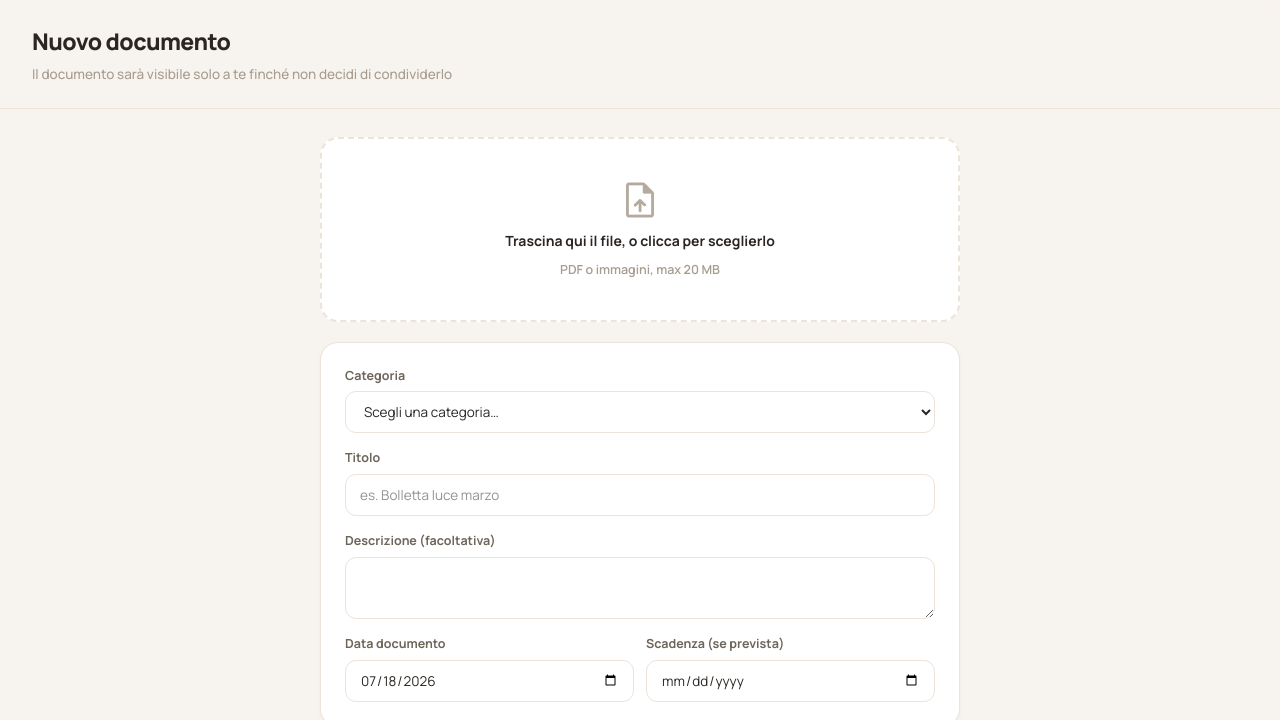
Test case: UploadView — campi condizionali per categoria › espone importo/metodo/data pagamento dopo aver attivato il checkbox
Select "Visita medica" in the dropdown labelled "Categoria" at [640, 412], box [345,391,935,433]
(page scrolled)
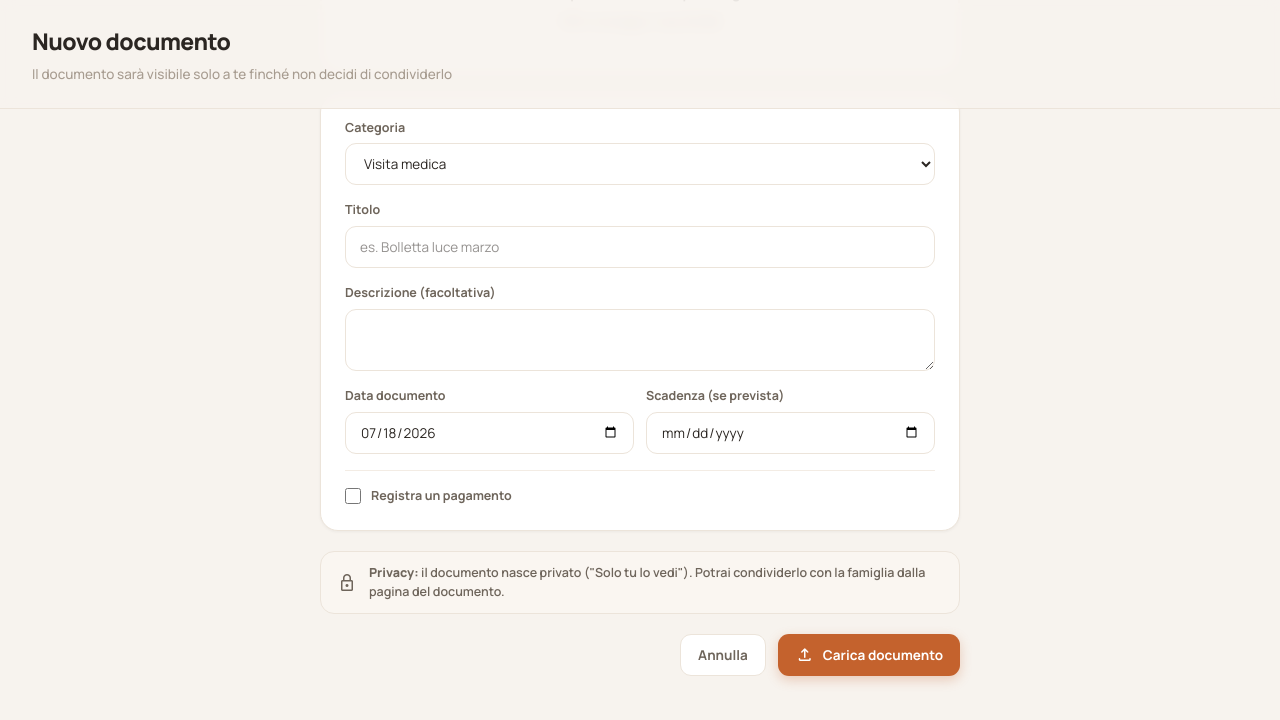
Click the checkbox labelled "Registra un pagamento" at [353, 496], box [345,488,361,504]
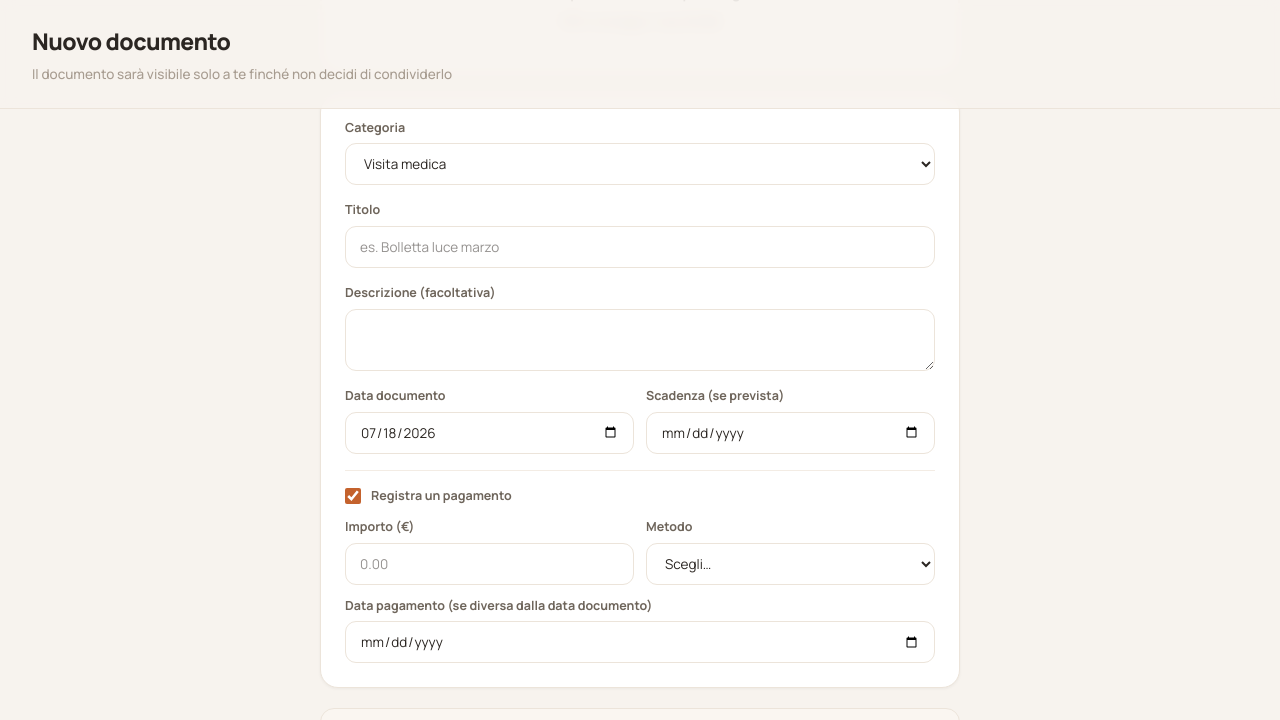
Check: the text "Importo (€)" is shown, box [345,518,414,535]
Check: the text "Metodo" is shown, box [646,518,692,535]
